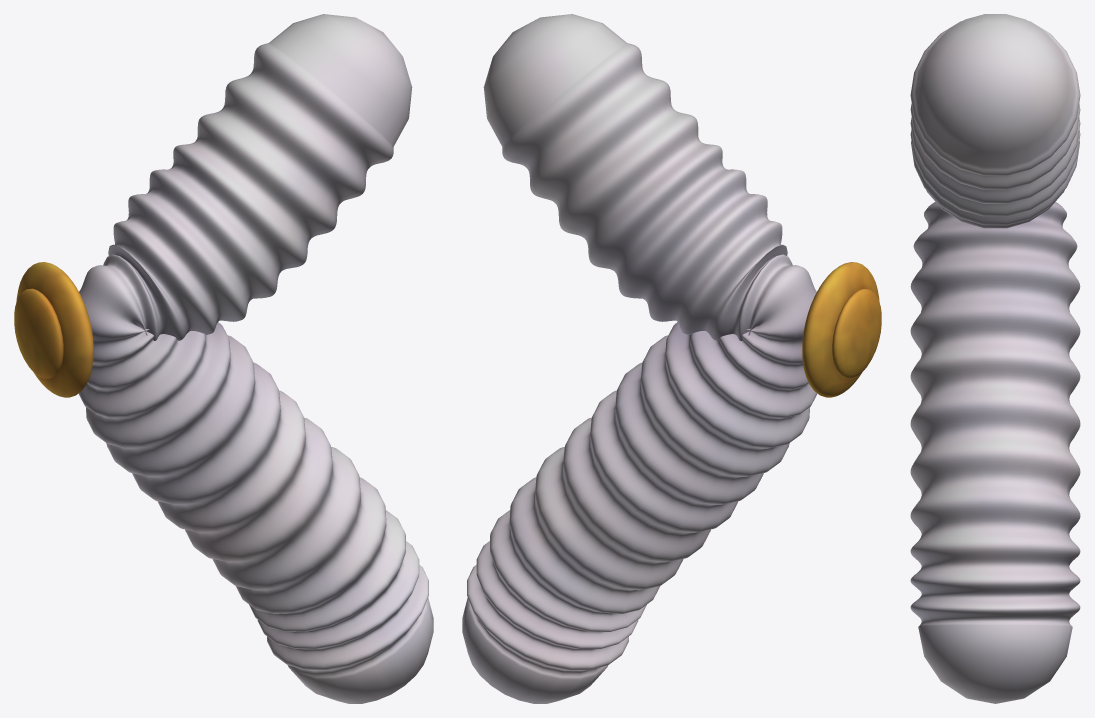
File: chromosome-single.glb
3 views of the same model, side by side, from view 1: azimuth 30°, elevation 25°; view 2: azimuth 150°, elevation 25°; view 3: azimuth 270°, elevation 25° (orthographic). The views are drawn at different scales.
Visible parts, largest first — view 1: chromosome-single-arms, chromosome-single-kinetochore; view 2: chromosome-single-arms, chromosome-single-kinetochore; view 3: chromosome-single-arms.
Part boxes in pixels (x1,y1,x2,y2): chromosome-single-arms: [78, 14, 433, 703]; chromosome-single-kinetochore: [14, 262, 93, 397]; chromosome-single-arms: [462, 14, 817, 703]; chromosome-single-kinetochore: [802, 262, 881, 397]; chromosome-single-arms: [910, 14, 1080, 703].
Size of what is drawn, in the model's own units: 0.4916 by 0.813 by 0.1885.
